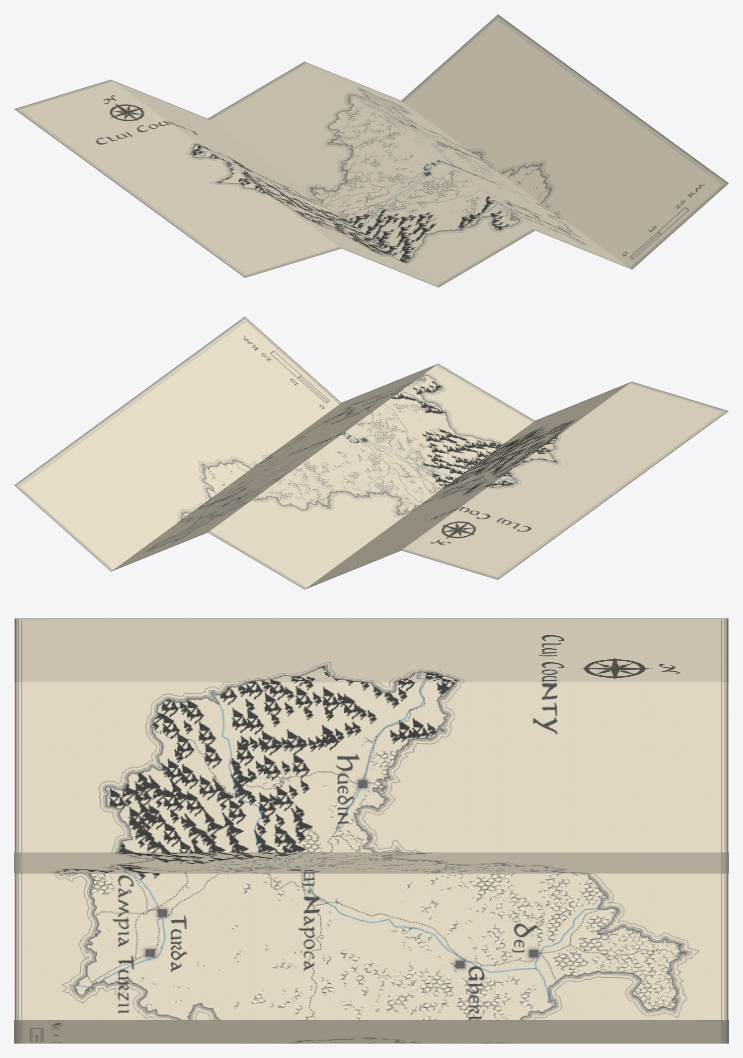
The model's file is foldMap.glb.
3 views of the same model, one above another, from view 1: azimuth 30°, elevation 25°; view 2: azimuth 150°, elevation 25°; view 3: azimuth 270°, elevation 25° (orthographic). The views are drawn at different scales.
Visible parts, largest first — view 1: Plane; view 2: Plane; view 3: Plane.
Boxes of the visible parts, box(x1,y1,x2,y2) form: Plane: box(14, 14, 728, 287); Plane: box(14, 316, 728, 589); Plane: box(14, 618, 728, 1043).
Size of the model in its own units: 12.6 by 2.29 by 10.42.
Materials: 1 (1 with a texture image).
